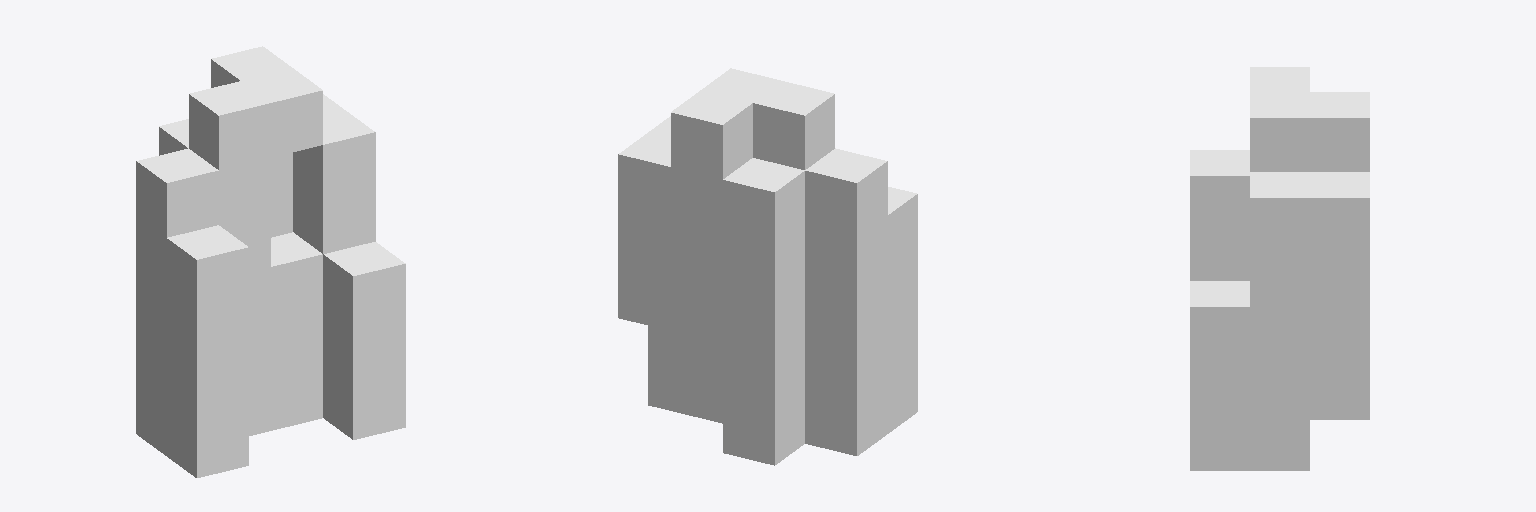
Rendered from Centered_Corgi_Ear_Left.obj.
The picture shows the model from 3 angles: view 1: azimuth 30°, elevation 25°; view 2: azimuth 150°, elevation 25°; view 3: azimuth 270°, elevation 25°; orthographic projection.
Parts seen in each view (by area): view 1: Corgi_left_ear; view 2: Corgi_left_ear; view 3: Corgi_left_ear.
Boxes of the visible parts, box(x1,y1,x2,y2) form: Corgi_left_ear: box(136, 46, 405, 477); Corgi_left_ear: box(618, 68, 917, 465); Corgi_left_ear: box(1190, 67, 1369, 470).
Size of the model in its own units: 0.4 by 0.6 by 0.3.